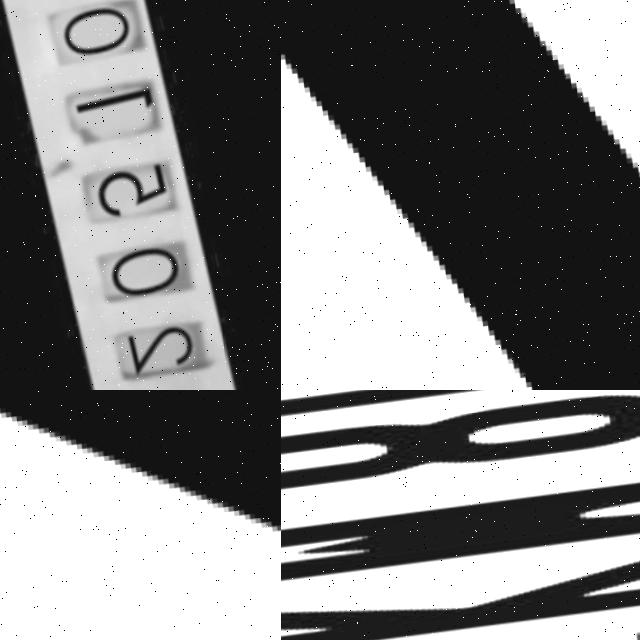0: (89, 242, 187, 315), (49, 3, 143, 74)
1: (66, 84, 161, 156)
2: (110, 325, 199, 390)
5: (80, 162, 174, 234)
8: (281, 390, 640, 505)
G: (281, 390, 640, 432)
K: (281, 552, 640, 640)
M: (281, 485, 640, 593)
N: (281, 0, 640, 390)
V: (0, 390, 281, 640)
